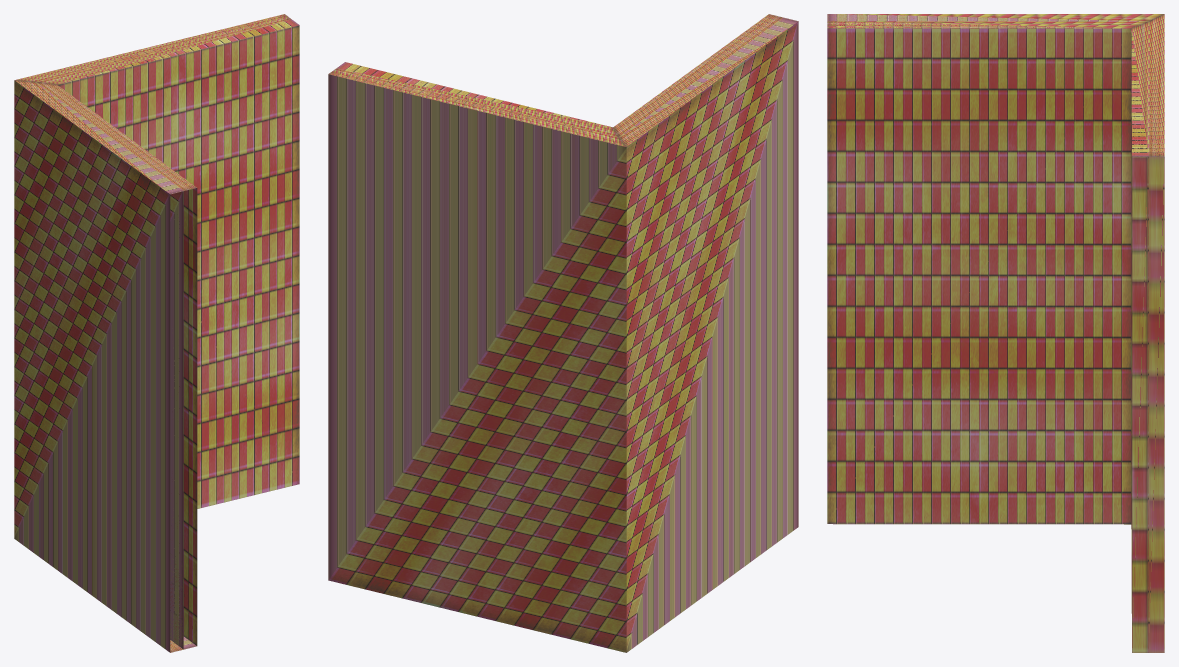
Rendered from wall-corner-BR.obj.
The picture shows the model from 3 angles, left to right: view 1: azimuth 30°, elevation 25°; view 2: azimuth 150°, elevation 25°; view 3: azimuth 270°, elevation 25°; orthographic projection. The views are drawn at different scales.
Bounding box in the file's own units: 2 × 3.24 × 2.
Materials: 1 (1 with a texture image).
